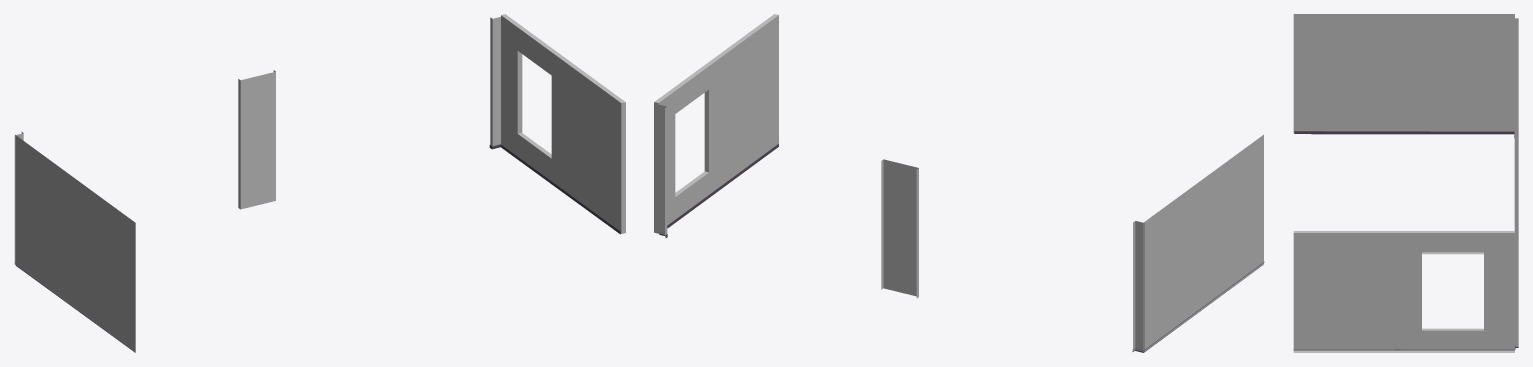
The model's file is StoneWall.FBX.
The picture shows the model from 3 angles, left to right: view 1: azimuth 30°, elevation 25°; view 2: azimuth 150°, elevation 25°; view 3: azimuth 270°, elevation 25°; orthographic projection. The views are drawn at different scales.
Parts seen in each view (by area): view 1: StoneWall (×3); view 2: StoneWall (×3); view 3: StoneWall (×3).
Boxes of the visible parts, x1,y1,x2,y2 form: StoneWall (×3): (14,14,625,352); StoneWall (×3): (654,14,1264,352); StoneWall (×3): (1293,14,1518,352).
Size of the model in its own units: 53.43 by 13.72 by 23.15.
